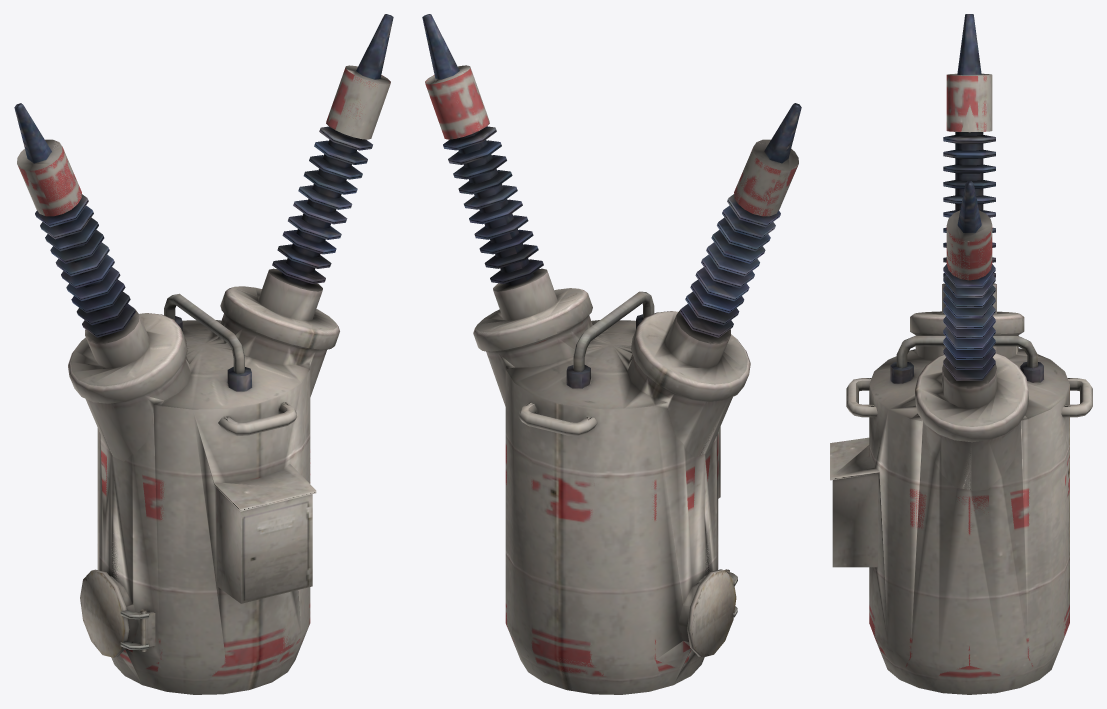
Rendered from circuitbreakers.fbx.
3 renders of one model, left to right at view 1: azimuth 30°, elevation 25°; view 2: azimuth 150°, elevation 25°; view 3: azimuth 270°, elevation 25°, orthographic. The views are drawn at different scales.
Parts seen in each view (by area): view 1: circuitbreaker_01a, circuitbreaker_01b; view 2: circuitbreaker_01a, circuitbreaker_01b; view 3: circuitbreaker_01b, circuitbreaker_01a.
Boxes of the visible parts, left/top/right/bottom form: circuitbreaker_01a: left=14, top=14, right=393, bottom=694; circuitbreaker_01b: left=17, top=66, right=390, bottom=694; circuitbreaker_01a: left=422, top=14, right=801, bottom=694; circuitbreaker_01b: left=428, top=67, right=798, bottom=694; circuitbreaker_01b: left=830, top=73, right=1064, bottom=690; circuitbreaker_01a: left=830, top=14, right=1092, bottom=694.
Bounding box in the file's own units: 229 × 347 × 147.
